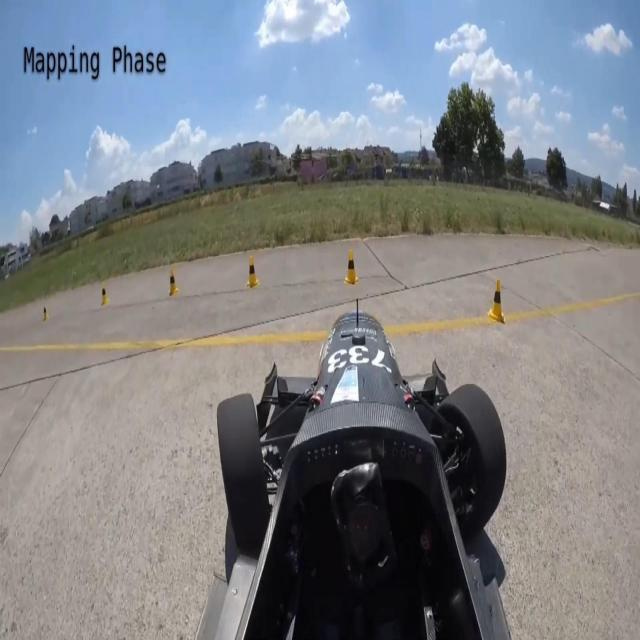yellow_cone: (488, 277, 506, 325), (344, 250, 359, 286), (247, 255, 260, 288), (169, 269, 179, 296), (101, 283, 110, 307)
